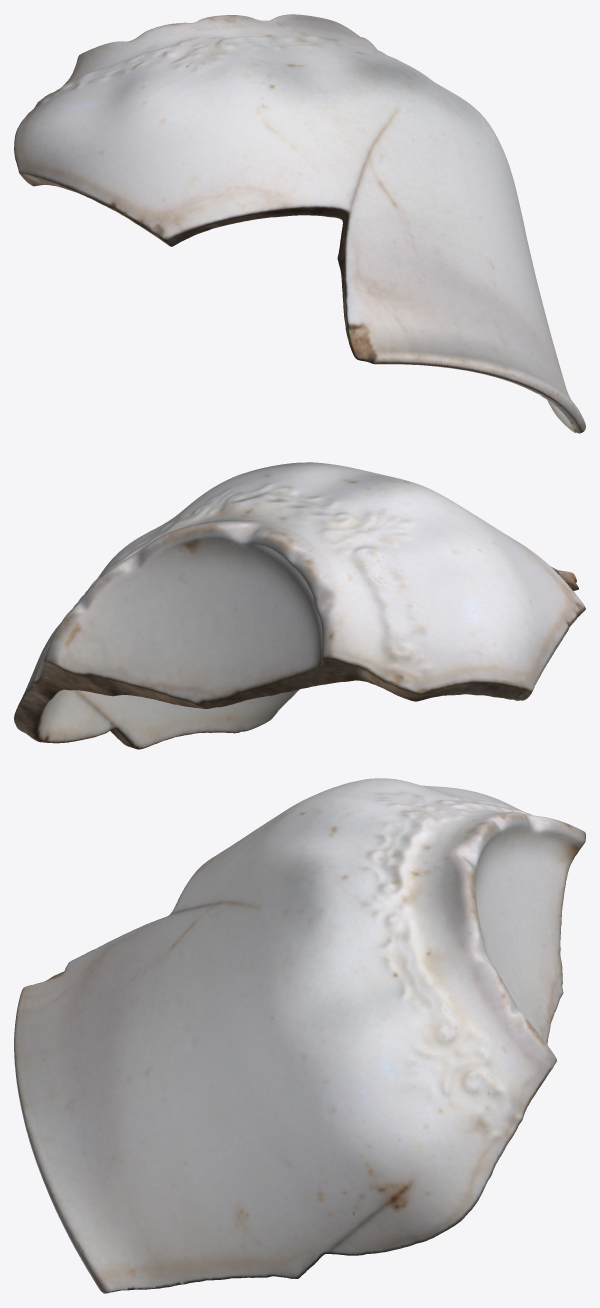
3 views of the same model, one above another, from view 1: azimuth 30°, elevation 25°; view 2: azimuth 150°, elevation 25°; view 3: azimuth 270°, elevation 25° (orthographic). The views are drawn at different scales.
Visible parts, largest first — view 1: Node; view 2: Node; view 3: Node.
Part boxes in pixels (bbox=[...]): Node: bbox=[14, 14, 585, 433]; Node: bbox=[14, 462, 585, 749]; Node: bbox=[14, 778, 585, 1293].
Bounding box in the file's own units: 74.31 × 52.13 × 72.75.
1 material, 1 textured.
